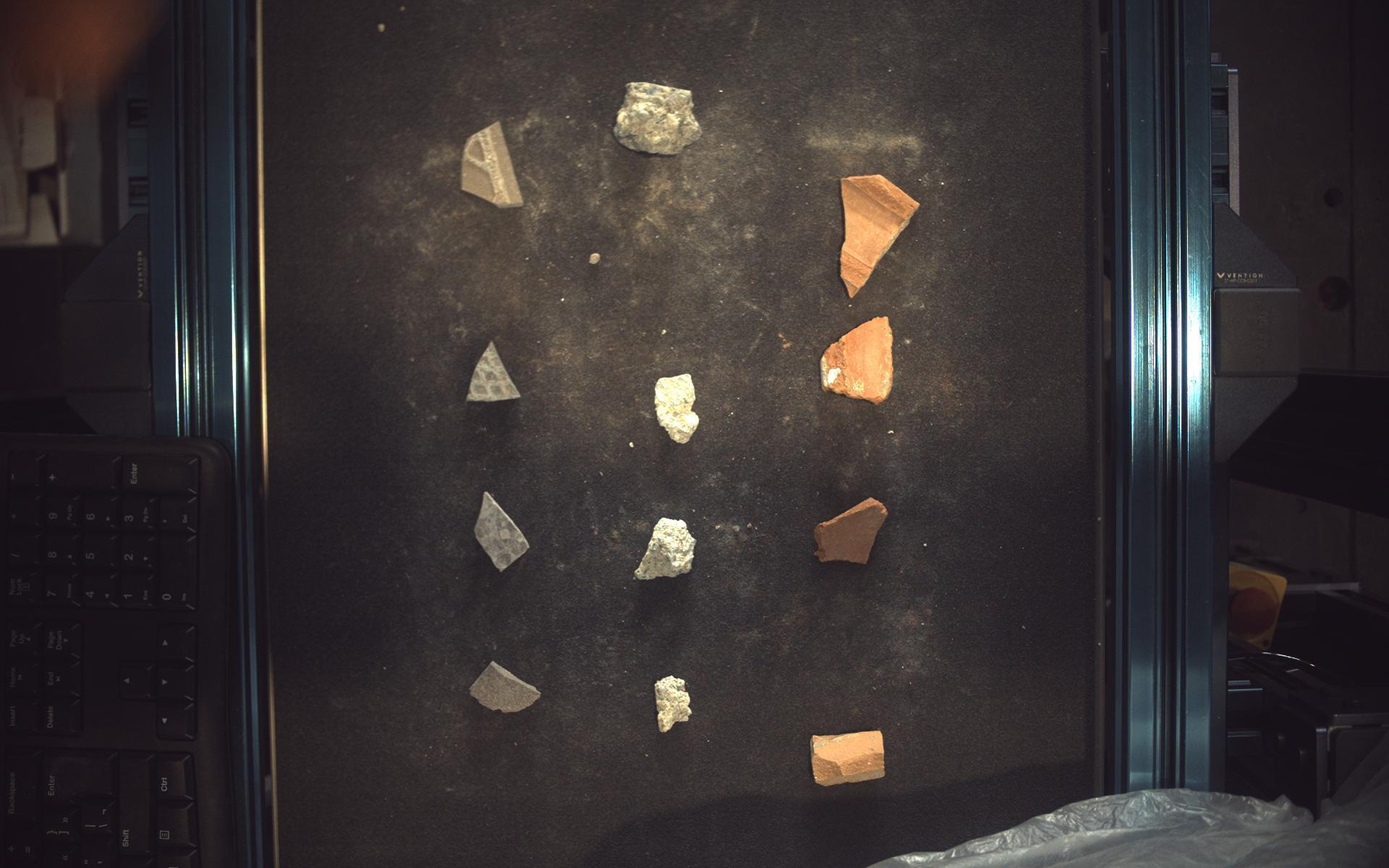brick: (842, 174, 921, 297), (822, 316, 895, 404), (815, 498, 889, 564), (812, 733, 886, 788)
concrete: (614, 81, 702, 154), (635, 518, 697, 580), (655, 373, 700, 443), (655, 677, 693, 733)
tile: (462, 120, 524, 207), (475, 492, 530, 572), (470, 663, 540, 714), (467, 341, 520, 401)
